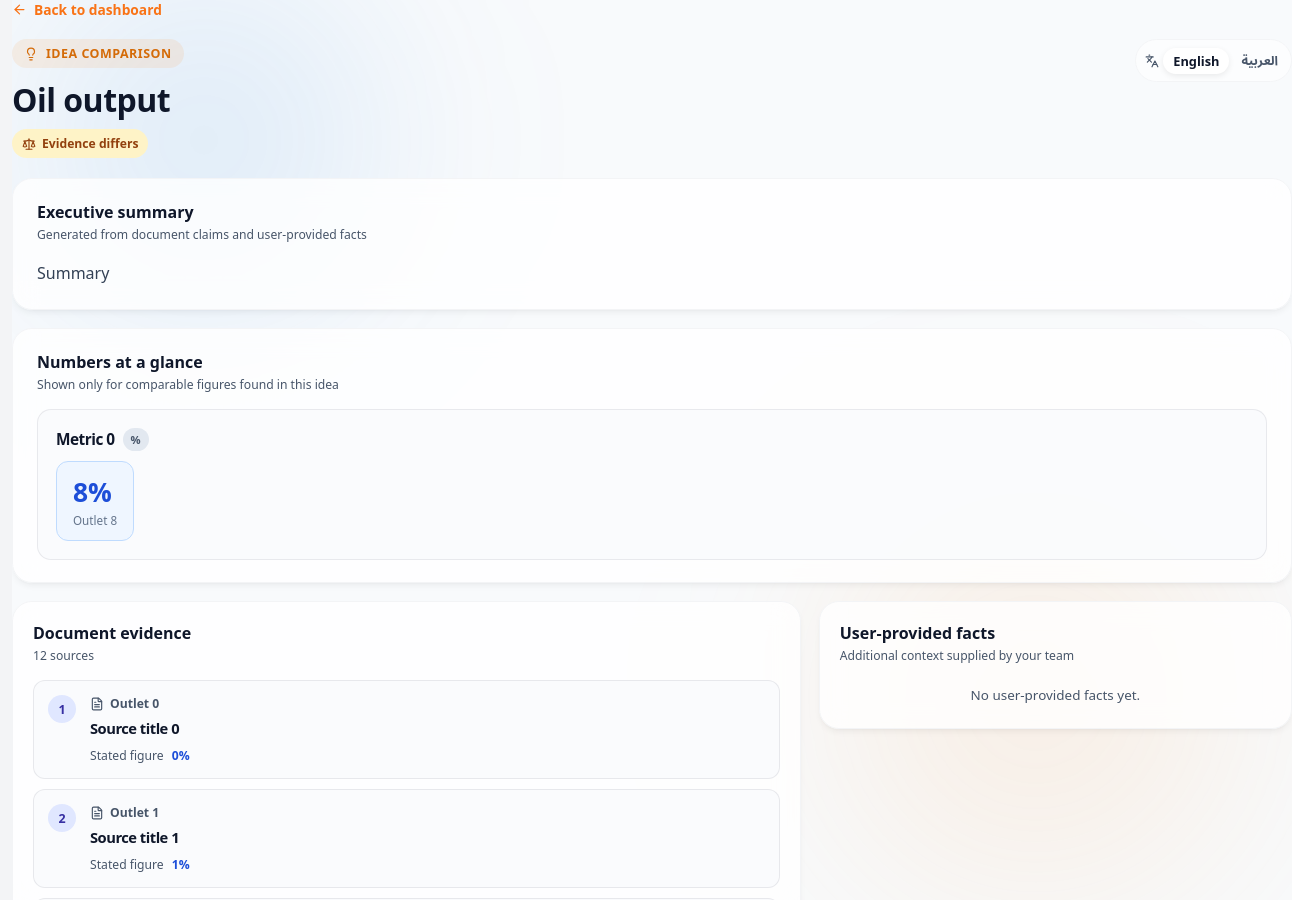
Test case: IdeaComparisonDetailPage pagination › jumps to the page holding an evidence row linked from the numbers section
Expected: the heading "Source title 0" is shown, top-left (90, 718), bottom-right (179, 738)
What coordinates should you click on to do the following:
click the link "8% Outlet 8"
I would click on:
 (95, 501)
Its box is top-left (56, 461), bottom-right (134, 541).
(page scrolled)
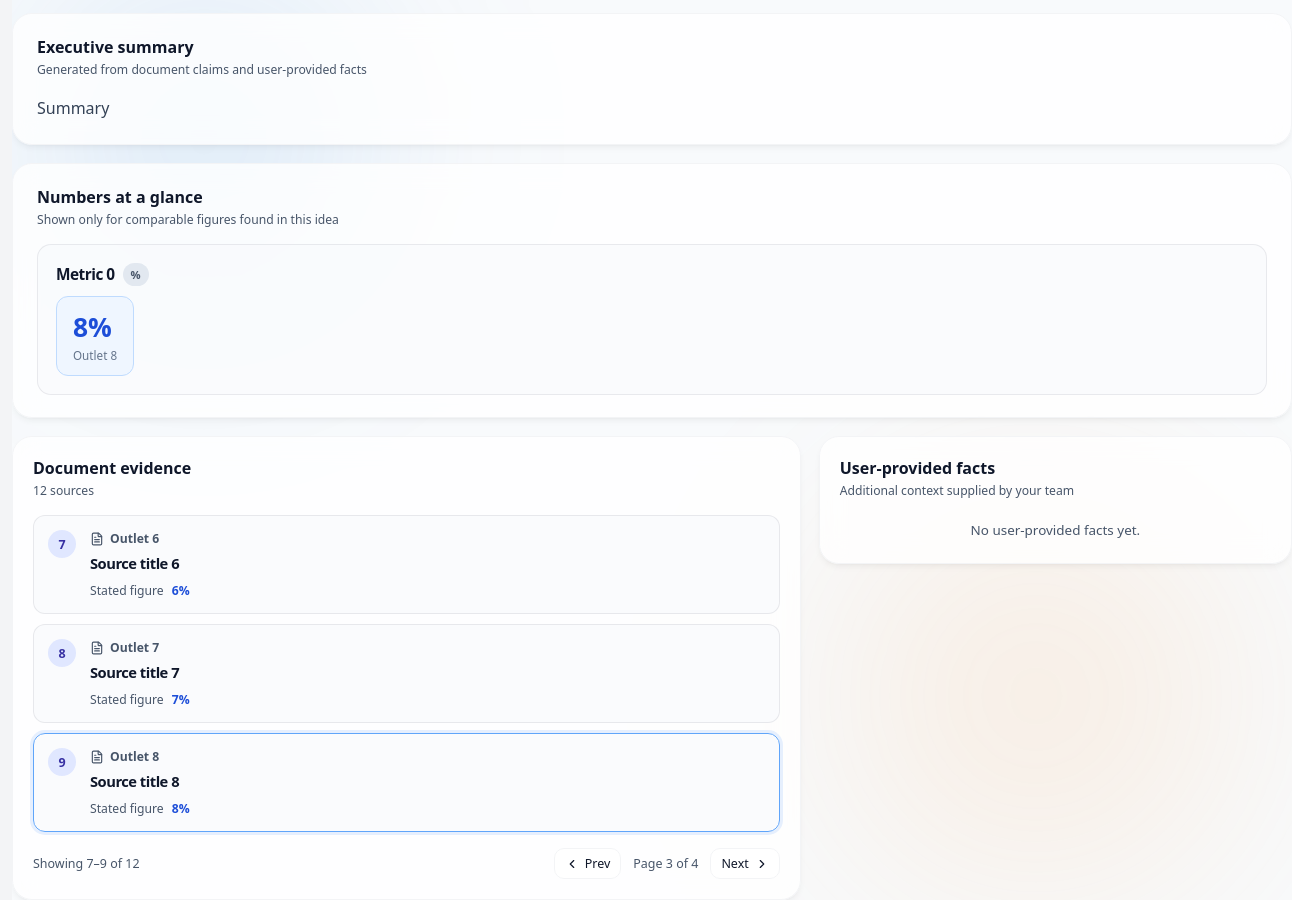
Result: the text "Page 3 of 4" is shown at top-left (633, 855), bottom-right (698, 872)
